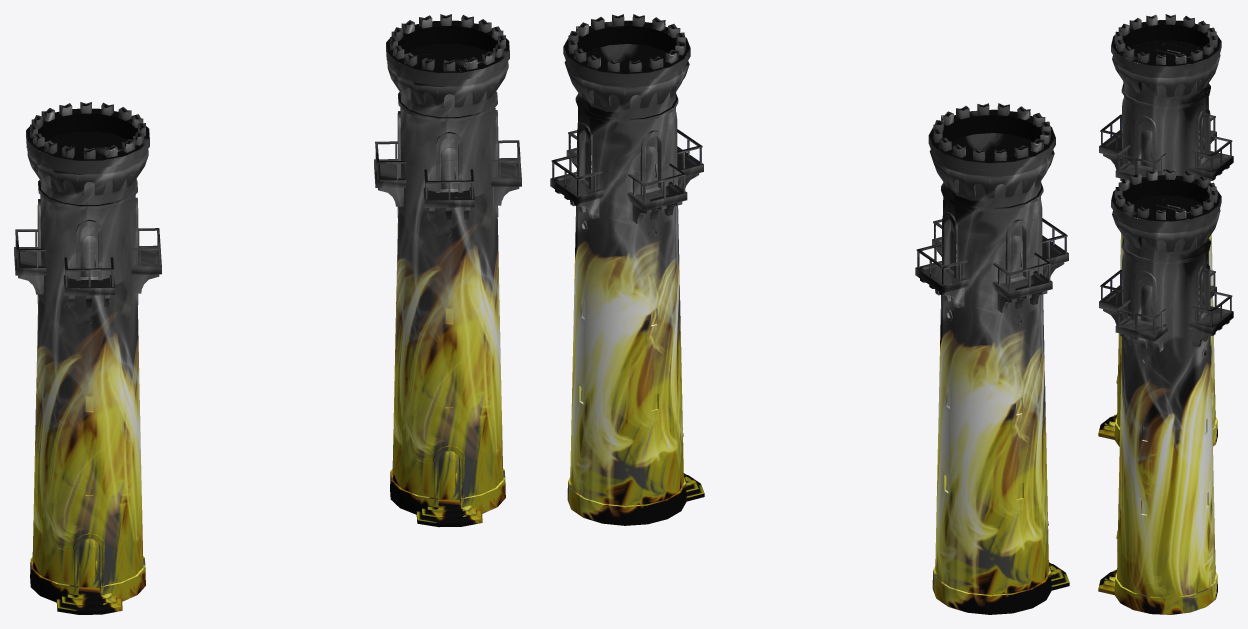
Rendered from fire.glb.
The picture shows the model from 3 angles, left to right: view 1: azimuth 30°, elevation 25°; view 2: azimuth 150°, elevation 25°; view 3: azimuth 270°, elevation 25°; orthographic projection. The views are drawn at different scales.
Parts seen in each view (by area): view 1: kickelhahn_tower (×2); view 2: kickelhahn_tower (×2); view 3: kickelhahn_tower (×2).
Boxes of the visible parts, bbox=[...] form: kickelhahn_tower (×2): bbox=[14, 14, 521, 614]; kickelhahn_tower (×2): bbox=[550, 14, 1069, 614]; kickelhahn_tower (×2): bbox=[1098, 14, 1233, 614].
Bounding box in the file's own units: 27.17 × 24.03 × 7.33.
2 materials, 2 textured.
